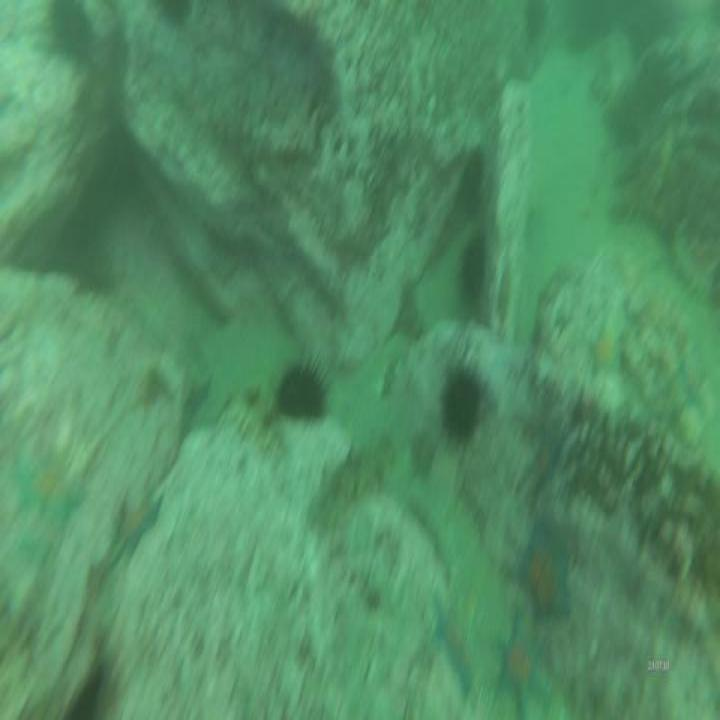echinus: (439, 364, 484, 448), (276, 363, 326, 423), (45, 2, 95, 62), (457, 224, 491, 308), (461, 140, 485, 206)
holothurian: (311, 430, 396, 535)
starfish: (12, 446, 85, 535), (493, 608, 551, 716), (517, 517, 573, 626), (429, 594, 478, 698), (115, 485, 163, 564), (589, 316, 625, 386)
